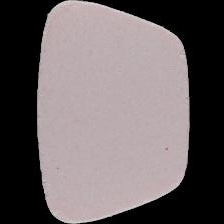43063-326: (0, 0, 224, 224)
